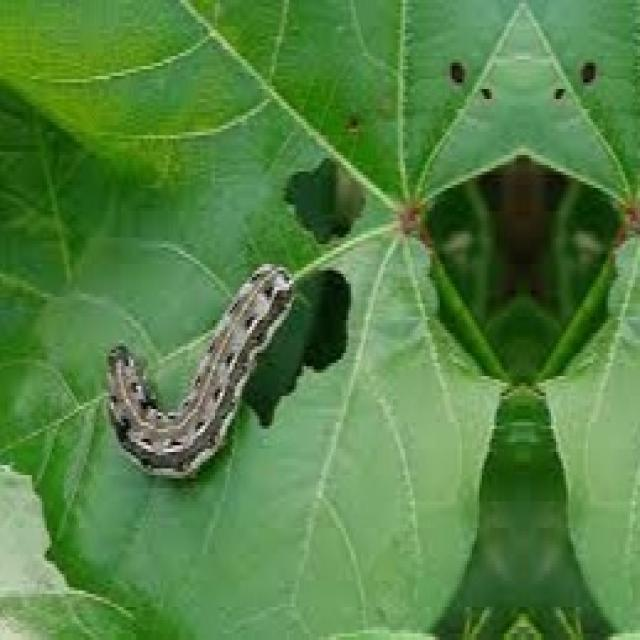Armyworm: (93, 252, 303, 498)
Armyworm_damage: (268, 141, 388, 275), (538, 49, 623, 157), (441, 48, 508, 136)
